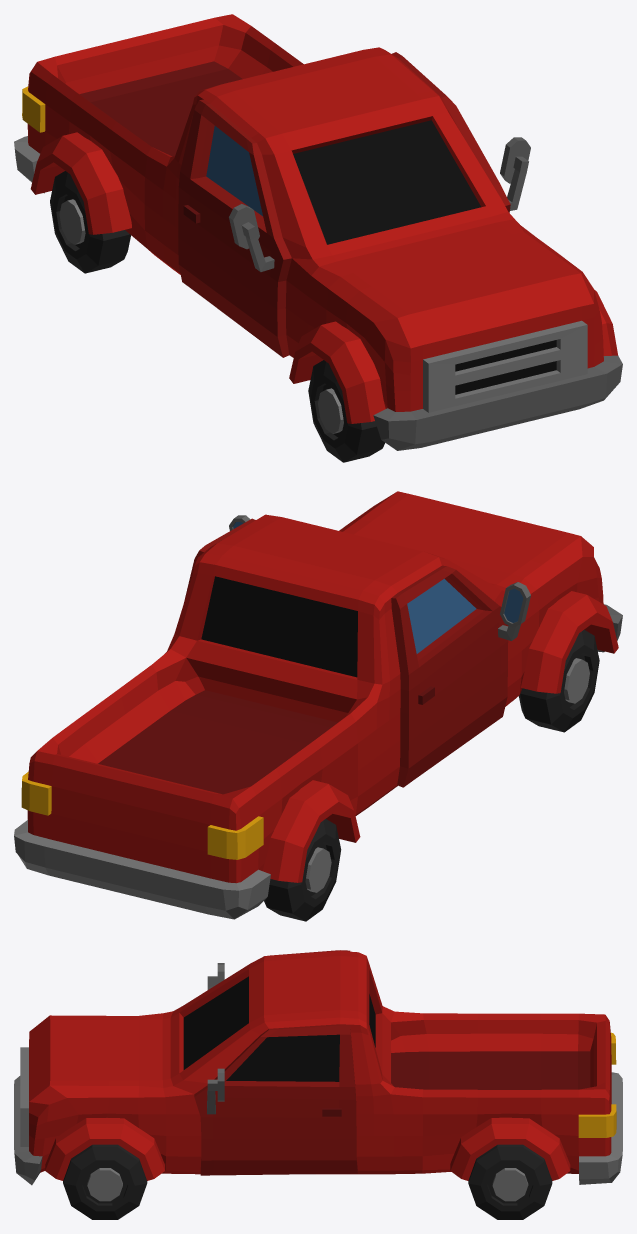
Rendered from pickup truck.fbx.
3 views of the same model, one above another, from view 1: azimuth 30°, elevation 25°; view 2: azimuth 150°, elevation 25°; view 3: azimuth 270°, elevation 25° (orthographic). The views are drawn at different scales.
Parts seen in each view (by area): view 1: pickup truck_LOD0; view 2: pickup truck_LOD0; view 3: pickup truck_LOD0.
Boxes of the visible parts, left/top/right/bottom form: pickup truck_LOD0: left=14, top=14, right=622, bottom=462; pickup truck_LOD0: left=14, top=491, right=622, bottom=921; pickup truck_LOD0: left=14, top=950, right=622, bottom=1219.
Size of what is drawn, in the model's own units: 2 by 1.56 by 4.51.
